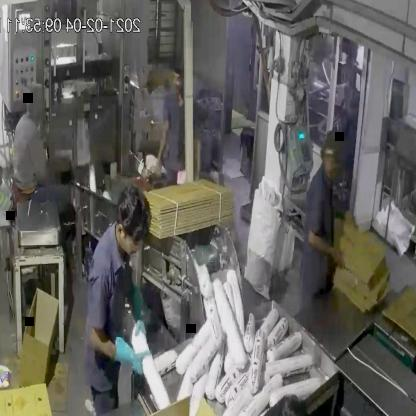glove: (107, 334, 148, 378), (128, 278, 152, 334)
no_glove: (306, 223, 347, 269), (182, 115, 202, 196), (152, 110, 172, 180)
